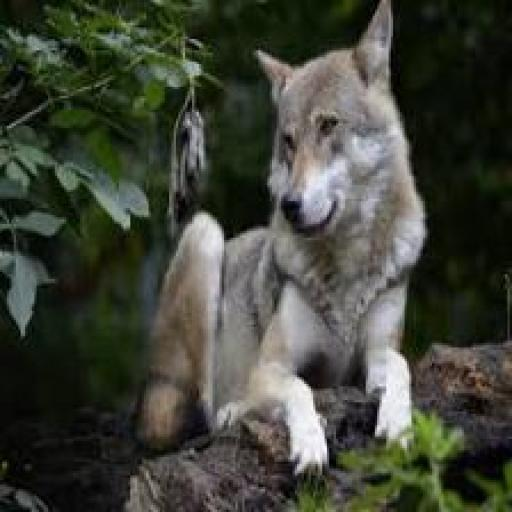wolf: (128, 0, 455, 503)
